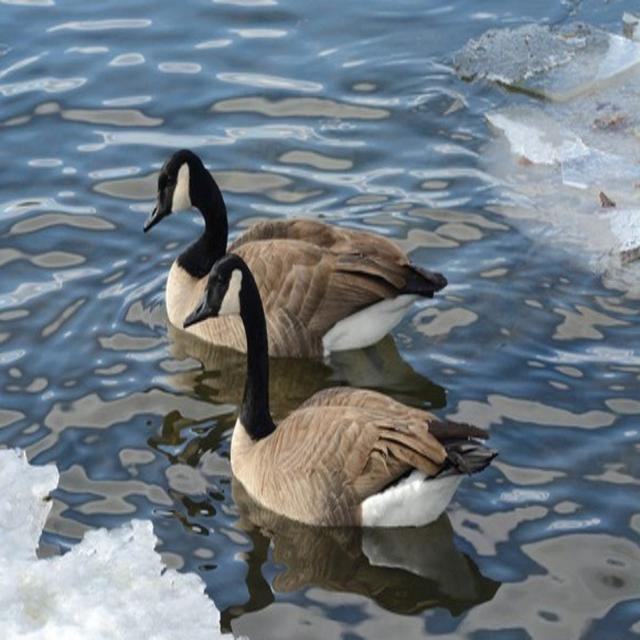Goose: (182, 257, 478, 534), (142, 150, 429, 350)
